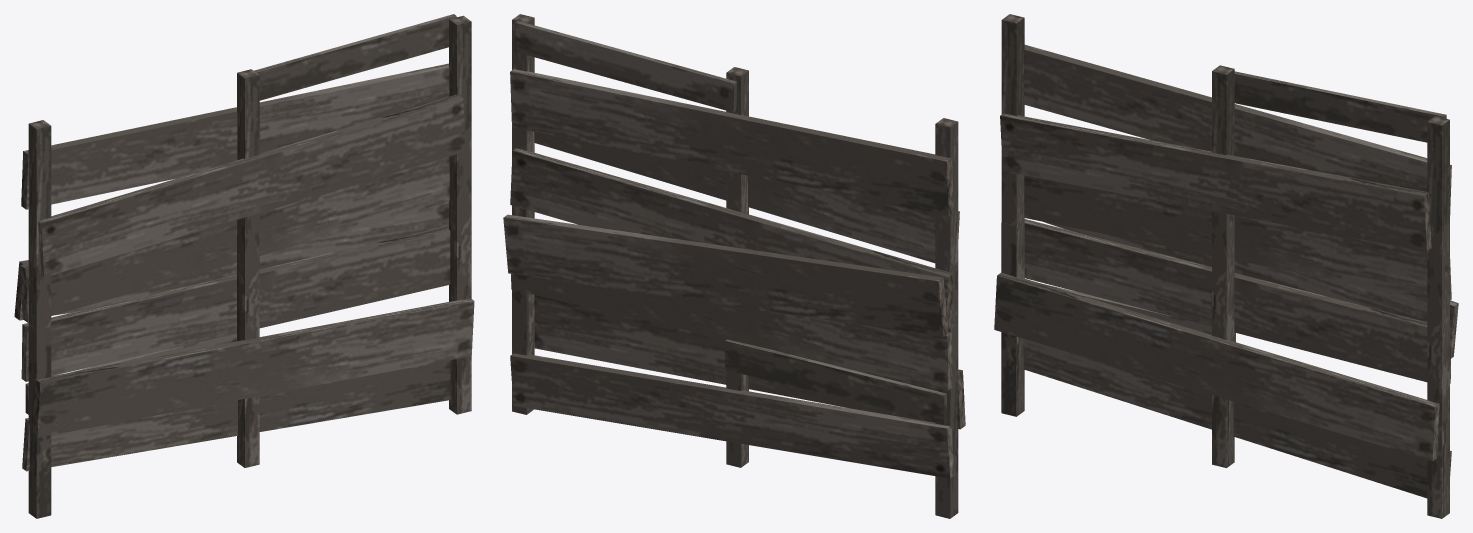
Rendered from Stage_Obj015.fbx.
3 renders of one model, left to right at view 1: azimuth 30°, elevation 25°; view 2: azimuth 150°, elevation 25°; view 3: azimuth 330°, elevation 25°, orthographic.
Parts seen in each view (by area): view 1: SM_SampleGame_Fence007; view 2: SM_SampleGame_Fence007; view 3: SM_SampleGame_Fence007.
Boxes of the visible parts, x1=… form: SM_SampleGame_Fence007: x1=14, y1=14, x2=474, y2=518; SM_SampleGame_Fence007: x1=503, y1=14, x2=965, y2=518; SM_SampleGame_Fence007: x1=994, y1=14, x2=1458, y2=518.
Size of the model in its own units: 156 by 133 by 13.9.
1 material, 1 textured.
